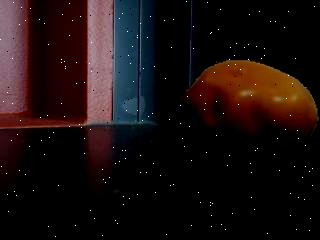Potato: (177, 59, 318, 158)
